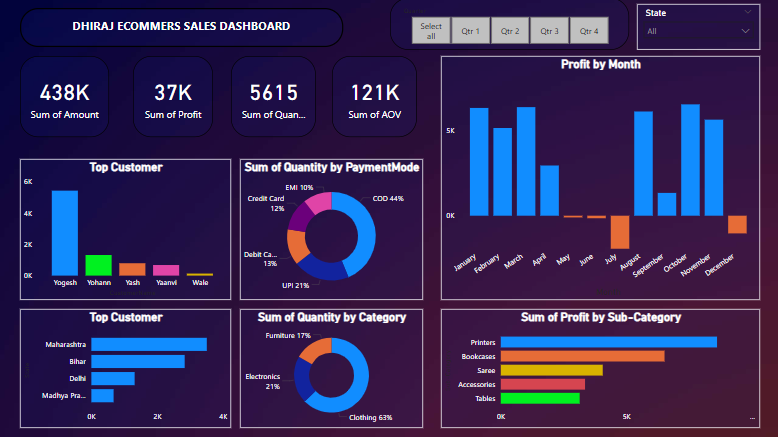

What the dashboard file says about the page in this screenshot:
{"tool":"powerbi","page":{"name":"Page 1","canvas":[1280,720],"ordinal":0},"visuals":[{"type":"textbox","box":[32.8,16.4,529.5,63.9],"z":0},{"type":"columnChart","title":"Profit by Month","fields":{"Y":["Details.Profit"],"Category":["Orders.Order Date.Variation.Date Hierarchy.Month"]},"box":[723,95.1,523,400],"z":1000},{"type":"barChart","fields":{"Y":["Details.Profit"],"Category":["Details.Sub-Category"]},"box":[723,509.8,523,195.1],"z":2000},{"type":"donutChart","fields":{"Y":["Details.Quantity"],"Category":["Details.Category"]},"box":[393.4,509.8,300,195.1],"z":3000},{"type":"donutChart","fields":{"Y":["Details.Quantity"],"Category":["Details.PaymentMode"]},"box":[393.4,263.9,300,231.1],"z":4000},{"type":"columnChart","title":"Top Customer","fields":{"Category":["Orders.CustomerName"],"Y":["Details.Amount"]},"box":[32.8,263.9,345.9,231.1],"z":5000},{"type":"clusteredBarChart","title":"Top Customer","fields":{"Category":["Orders.State"],"Y":["Details.Amount"]},"box":[32.8,509.8,345.9,195.1],"z":6000},{"type":"card","fields":{"Values":["Details.Amount"]},"box":[32.8,95.1,145.9,132.8],"z":7000},{"type":"card","fields":{"Values":["Details.Profit"]},"box":[218,95.1,131.1,132.8],"z":8000},{"type":"card","fields":{"Values":["Details.Quantity"]},"box":[378.7,95.1,139.3,132.8],"z":9000},{"type":"card","fields":{"Values":["Details.AOV"]},"box":[544.3,95.1,139.3,132.8],"z":10000},{"type":"slicer","fields":{"Values":["Orders.Order Date.Variation.Date Hierarchy.Quarter"]},"box":[639.3,0,391.8,85.2],"z":10001},{"type":"slicer","fields":{"Values":["Orders.State"]},"box":[1044.3,9.8,201.6,75.4],"z":10002}]}

Visuals, with their boxes in screenshot pixels (x1, y1, x2, y2), scaled from the page's 1280x720 canvas onto the 778x437 screenshot:
textbox: detection(20, 10, 342, 49)
"Profit by Month" columnChart: detection(439, 58, 757, 300)
barChart - Details.Profit x Details.Sub-Category: detection(439, 309, 757, 428)
donutChart - Details.Quantity x Details.Category: detection(239, 309, 421, 428)
donutChart - Details.Quantity x Details.PaymentMode: detection(239, 160, 421, 300)
"Top Customer" columnChart: detection(20, 160, 230, 300)
"Top Customer" clusteredBarChart: detection(20, 309, 230, 428)
card - Details.Amount: detection(20, 58, 109, 138)
card - Details.Profit: detection(133, 58, 212, 138)
card - Details.Quantity: detection(230, 58, 315, 138)
card - Details.AOV: detection(331, 58, 416, 138)
slicer - Orders.Order Date.Variation.Date Hierarchy.Quarter: detection(389, 0, 627, 52)
slicer - Orders.State: detection(635, 6, 757, 52)
